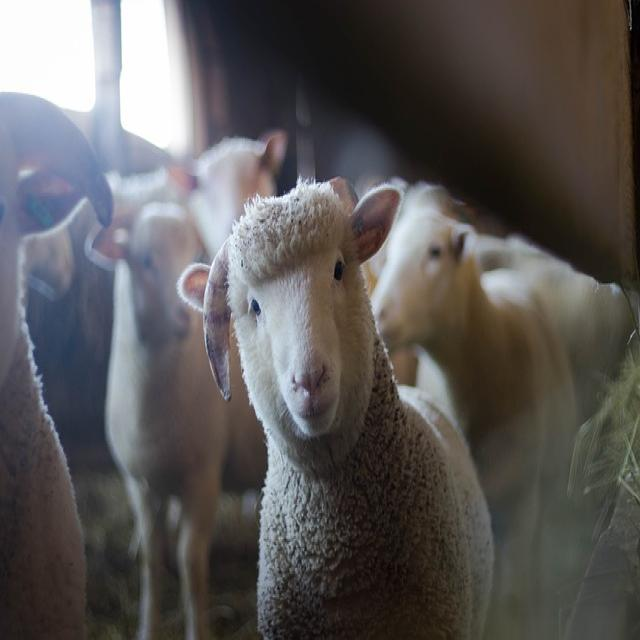goat: (179, 178, 492, 638), (106, 203, 266, 639), (371, 188, 576, 503), (0, 94, 112, 636)
